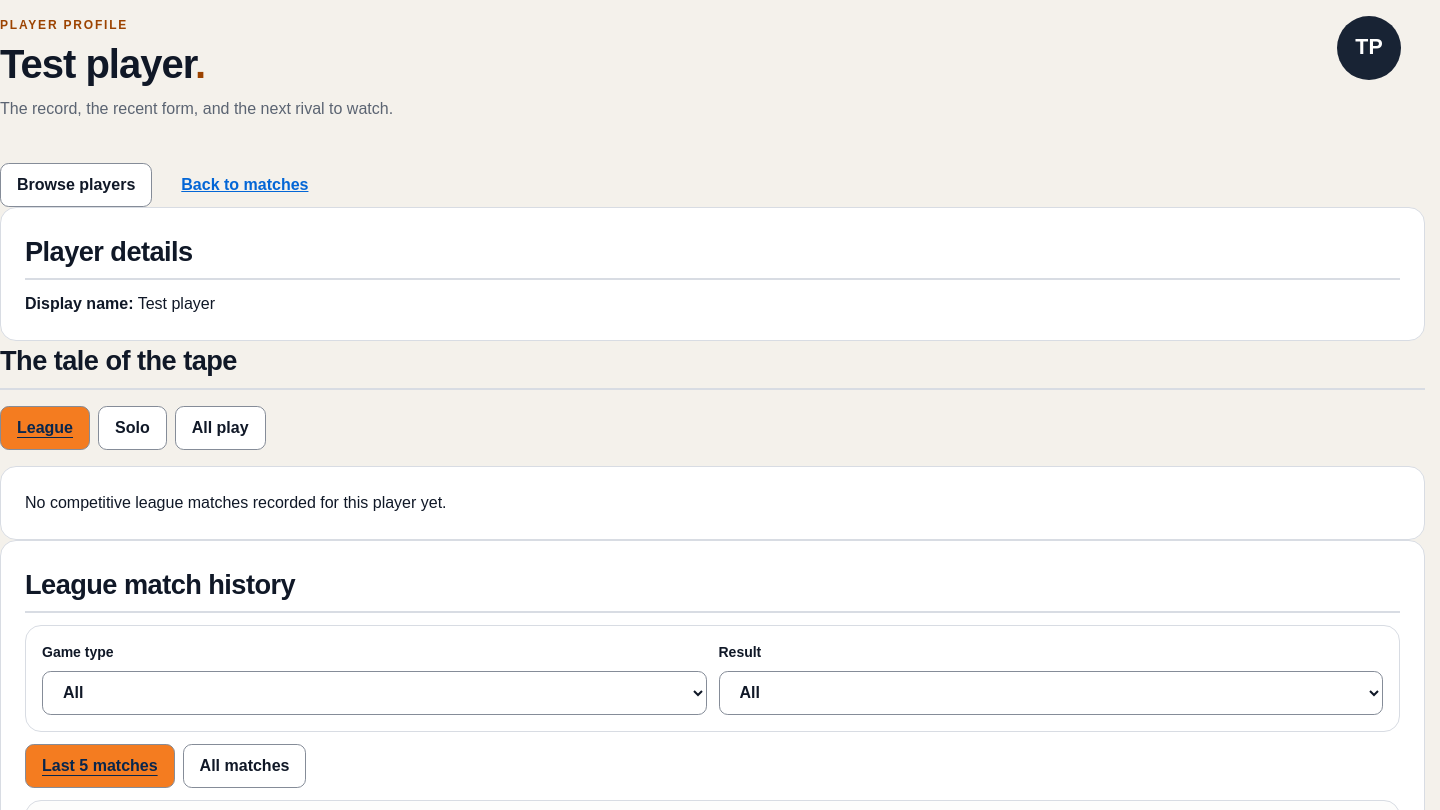
Test: ignores an obsolete response after a result filter changes
Expected: the heading "Test player." is shown, [0,42,205,86]
Step 1. Click the button "All matches" → click(244, 766), box [183,744,306,788]
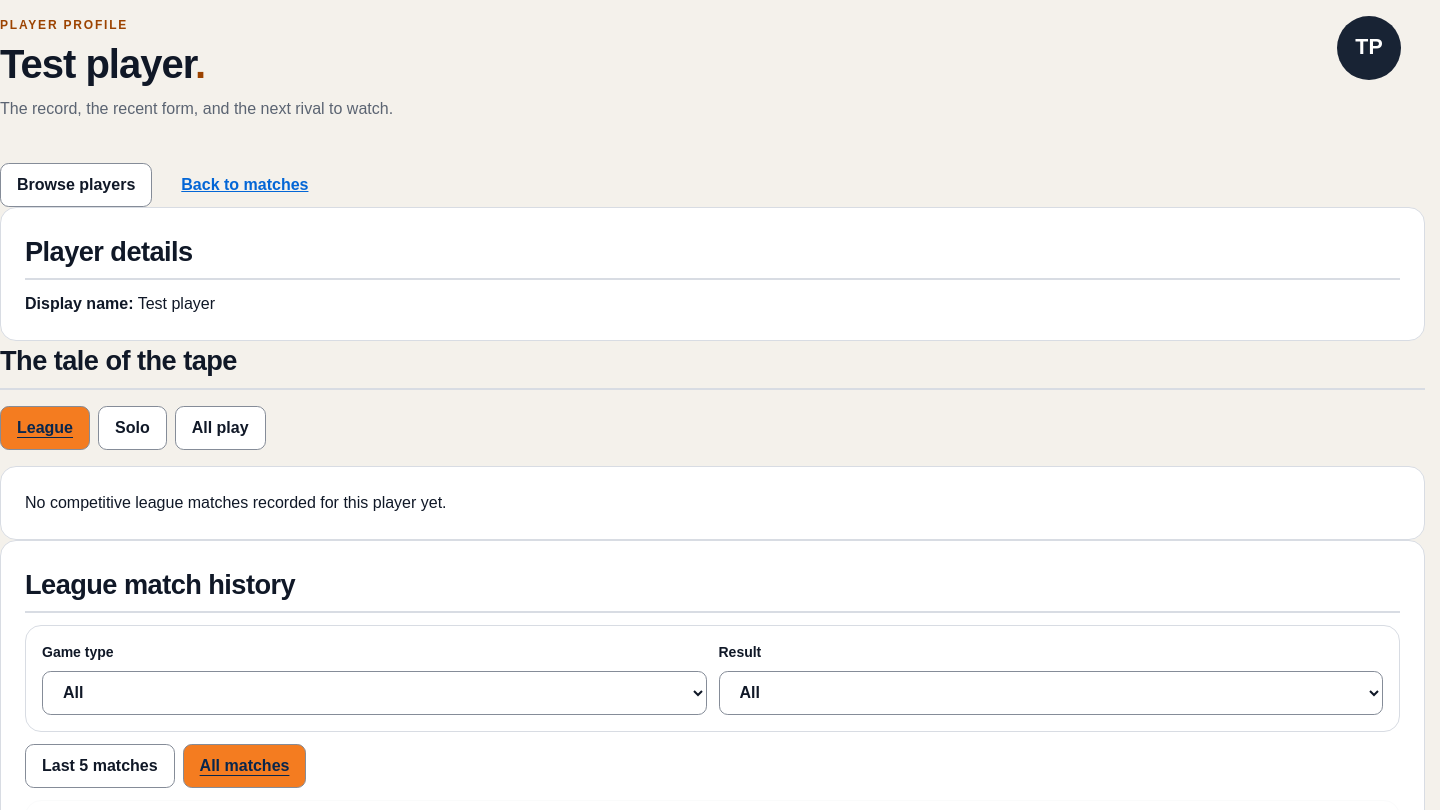
Step 2. Select "Losses" in the dropdown labelled "Result" → (1051, 693), box [718,671,1383,715]
(page scrolled)
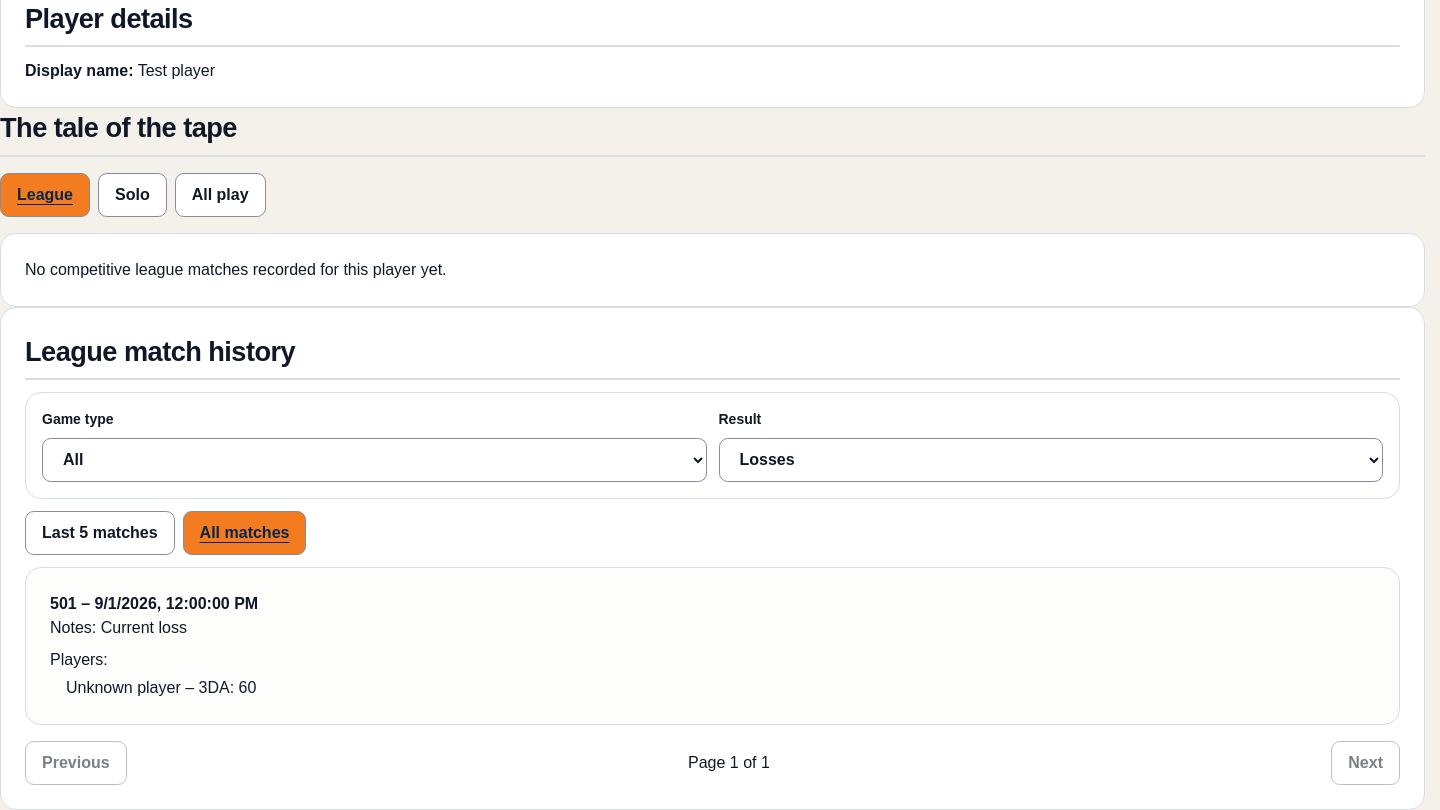
Now the text "Notes: Current loss" is shown, box [50,619,187,636]
Now the text "Page 1 of 1" is shown, box [688,751,770,775]
